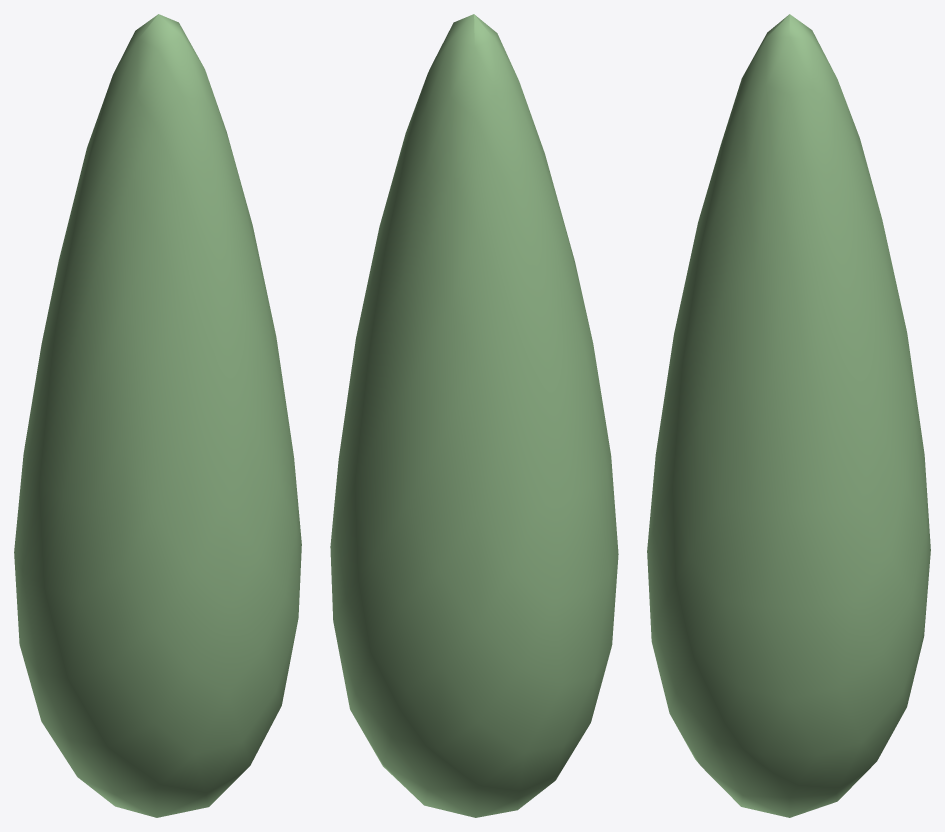
Rendered from tree-conifer-d-crown.glb.
3 renders of one model, left to right at view 1: azimuth 30°, elevation 25°; view 2: azimuth 150°, elevation 25°; view 3: azimuth 270°, elevation 25°, orthographic.
Parts seen in each view (by area): view 1: tree-conifer-d-crown; view 2: tree-conifer-d-crown; view 3: tree-conifer-d-crown.
Boxes of the visible parts, bbox=[...] form: tree-conifer-d-crown: bbox=[14, 14, 301, 817]; tree-conifer-d-crown: bbox=[330, 14, 618, 817]; tree-conifer-d-crown: bbox=[647, 14, 930, 817].
Size of the model in its own units: 0.2625 by 0.8114 by 0.2627.
